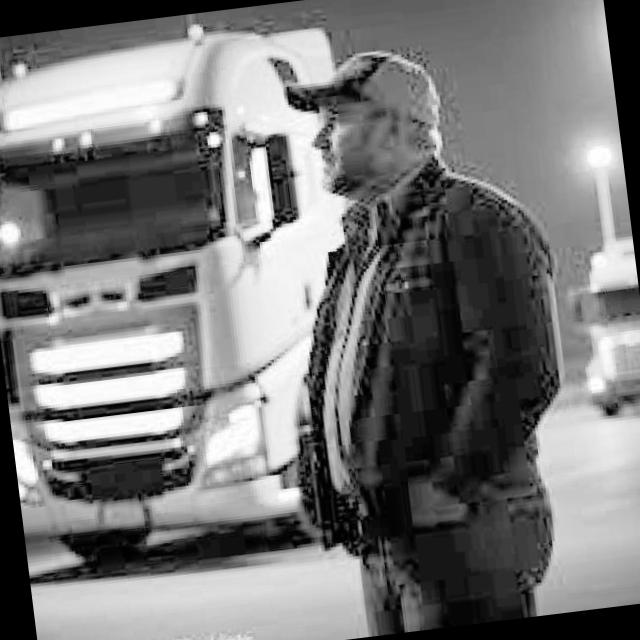Truck: (0, 1, 398, 572)
